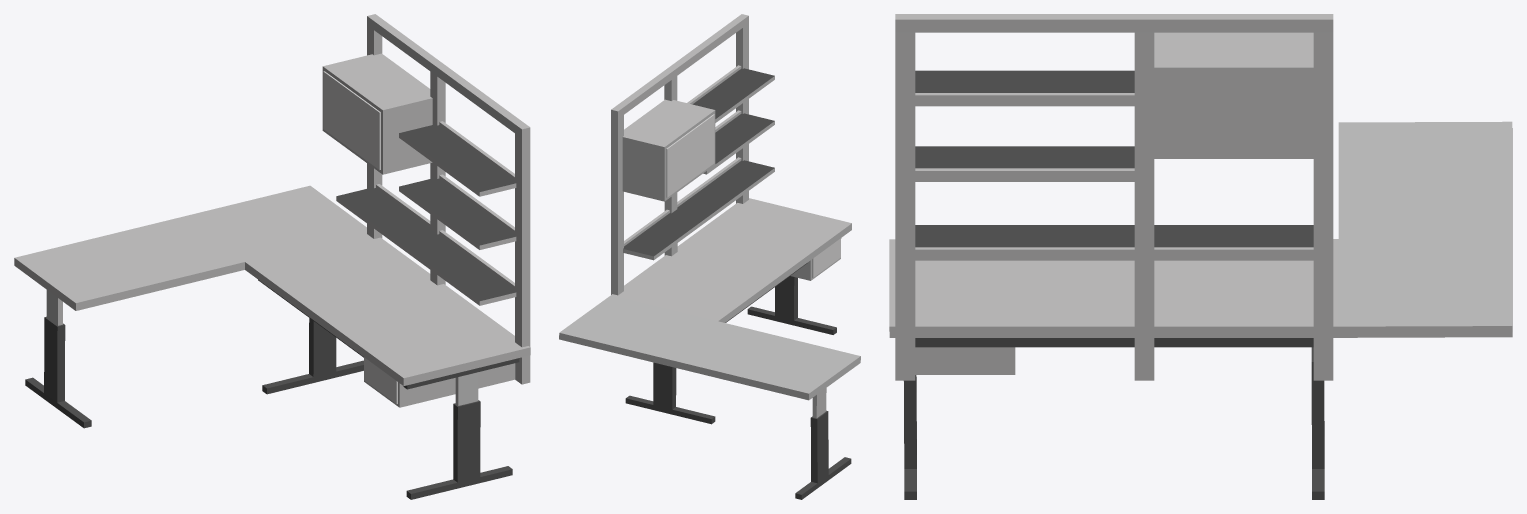
The model's file is F_Table_02.fbx.
3 views of the same model, side by side, from view 1: azimuth 30°, elevation 25°; view 2: azimuth 150°, elevation 25°; view 3: azimuth 270°, elevation 25° (orthographic). The views are drawn at different scales.
Parts seen in each view (by area): view 1: F_Table_02, F_Table_02_02, F_Table_02_01; view 2: F_Table_02, F_Table_02_02, F_Table_02_01; view 3: F_Table_02.
Boxes of the visible parts, left/top/right/bottom form: F_Table_02: left=14, top=14, right=530, bottom=499; F_Table_02_02: left=323, top=71, right=380, bottom=169; F_Table_02_01: left=364, top=357, right=397, bottom=403; F_Table_02: left=559, top=14, right=860, bottom=499; F_Table_02_02: left=666, top=114, right=714, bottom=197; F_Table_02_01: left=812, top=238, right=840, bottom=277; F_Table_02: left=889, top=14, right=1512, bottom=499.
Bounding box in the file's own units: 216 × 240 × 277.
Materials: 1 (1 with a texture image).
